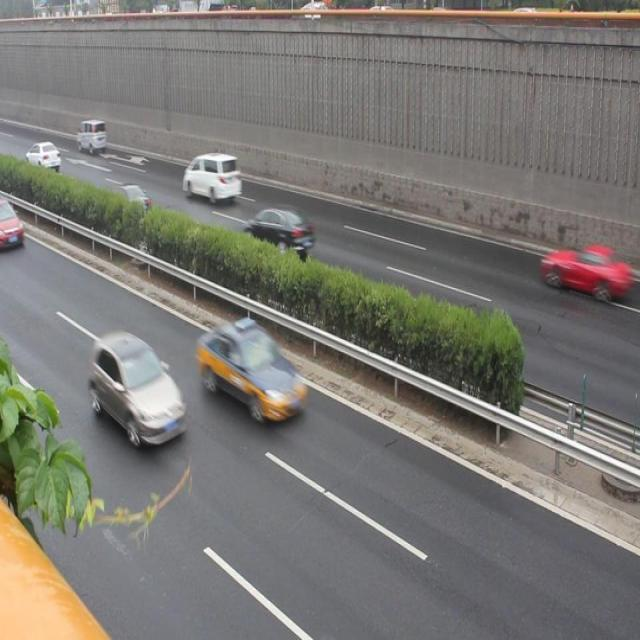car: (197, 315, 310, 433), (90, 329, 188, 453), (539, 232, 628, 314), (242, 203, 316, 262)
truck: (182, 150, 242, 208)
